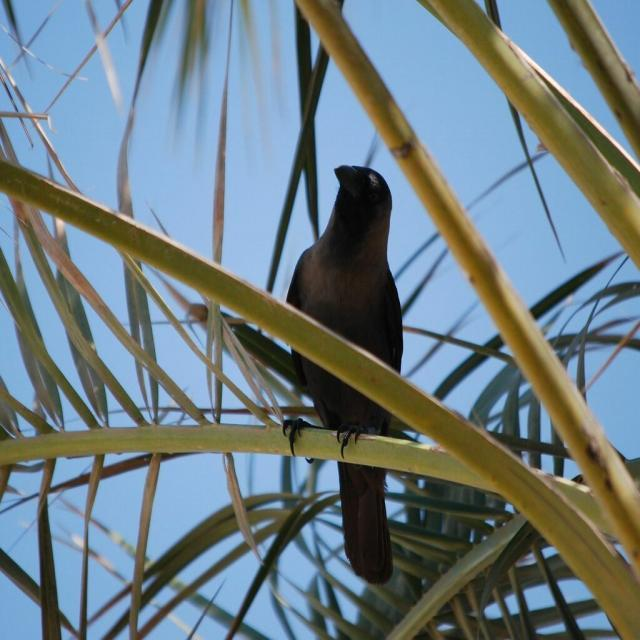bird: (272, 155, 410, 592)
